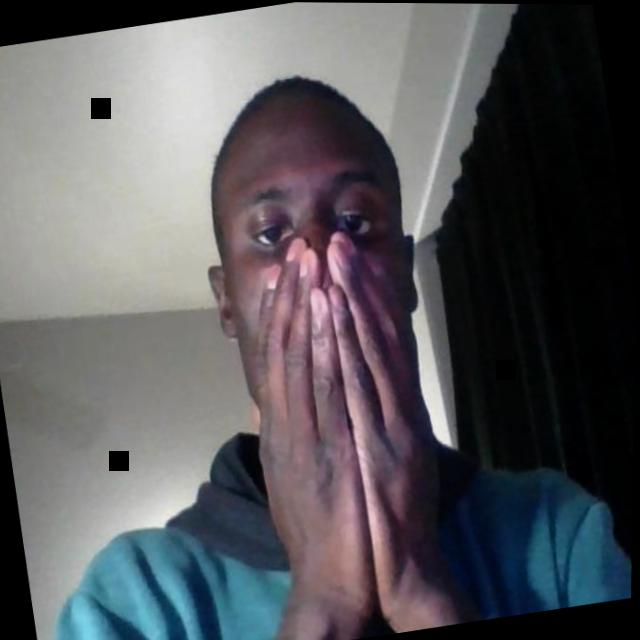NO-Mask: (209, 142, 431, 416)
